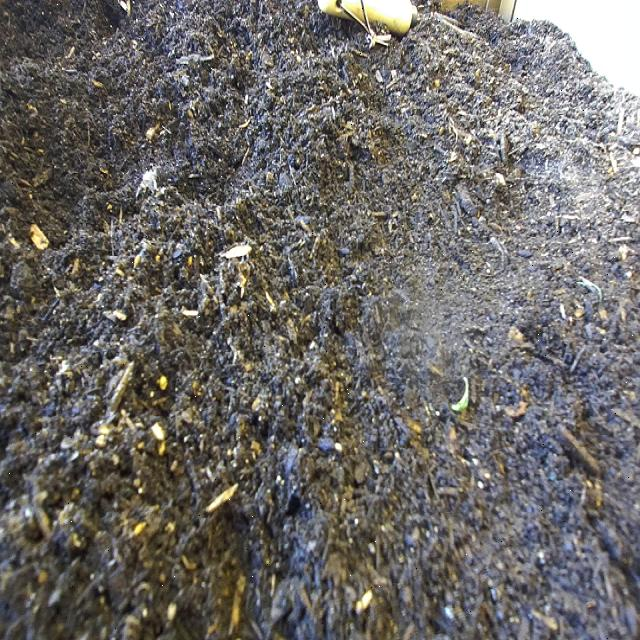Unhealthy: (447, 363, 478, 436)
